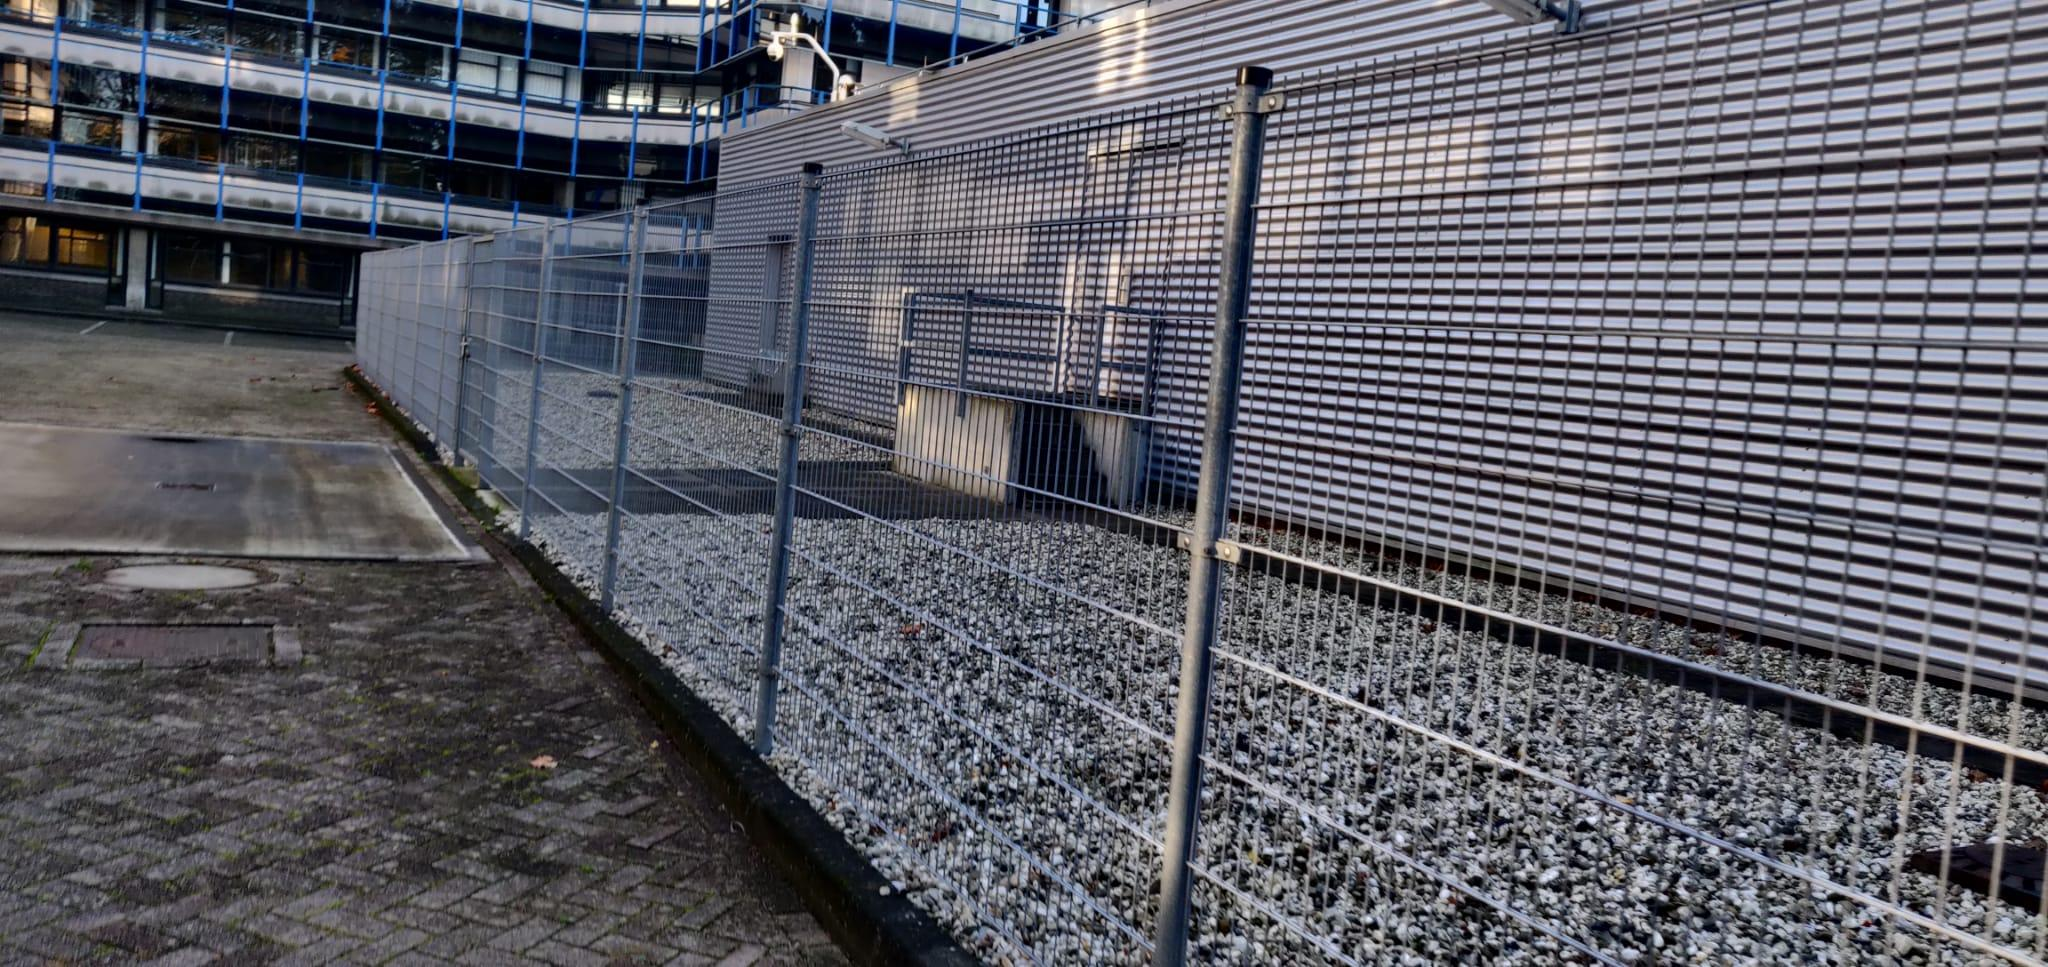obstacle: (128, 499, 1928, 865)
